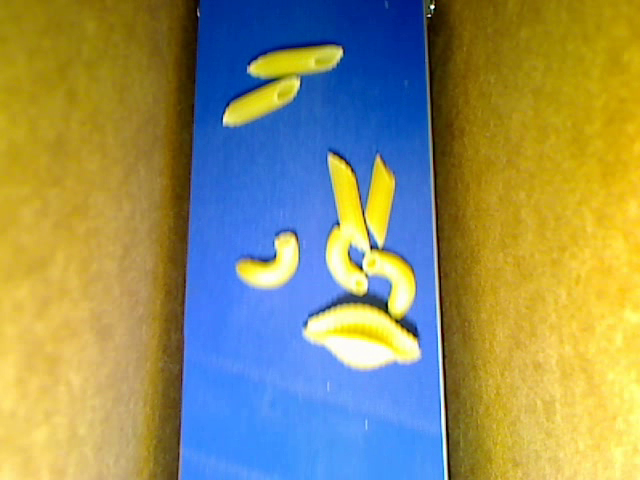elbow: (362, 250, 417, 318), (236, 232, 299, 290), (324, 225, 367, 295)
penne: (327, 150, 370, 253), (222, 75, 300, 126), (244, 45, 343, 79), (364, 152, 397, 250)
shell: (301, 301, 419, 371)
